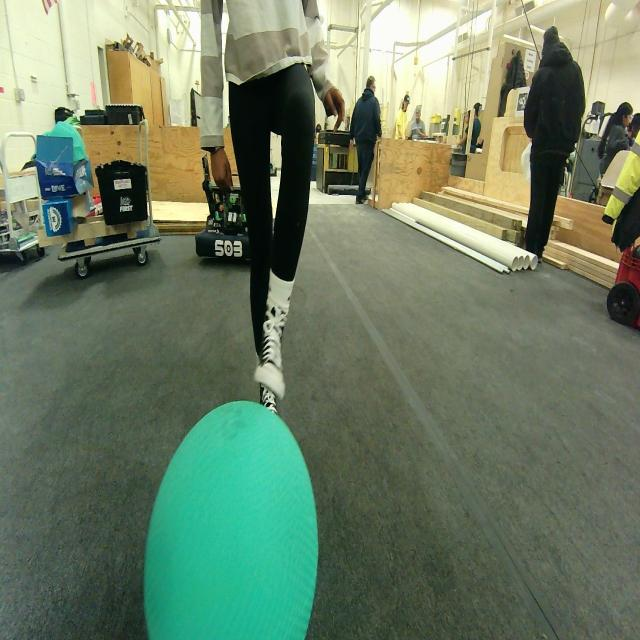algae: (144, 399, 320, 640)
